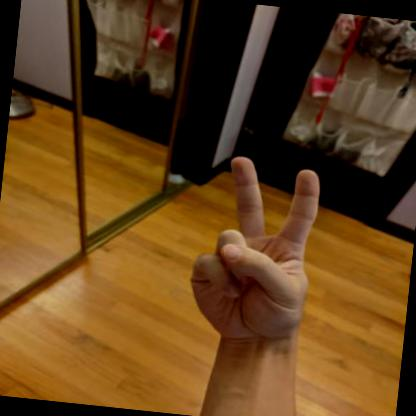V: (189, 156, 319, 352)
